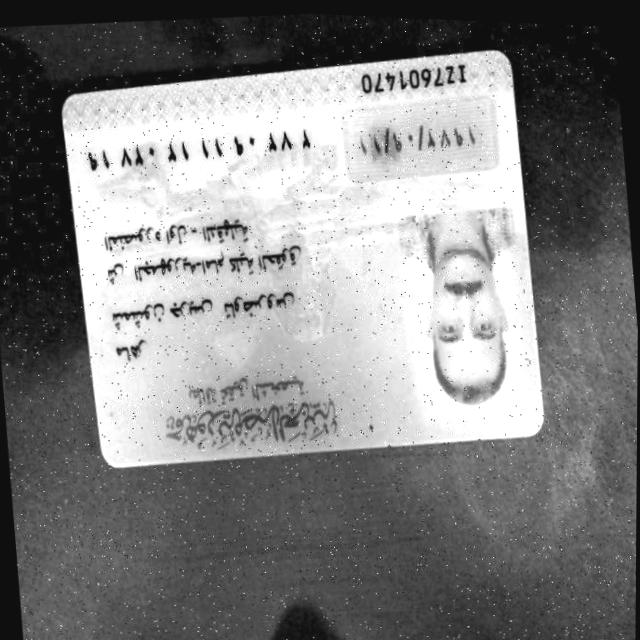front: (61, 51, 541, 467)
